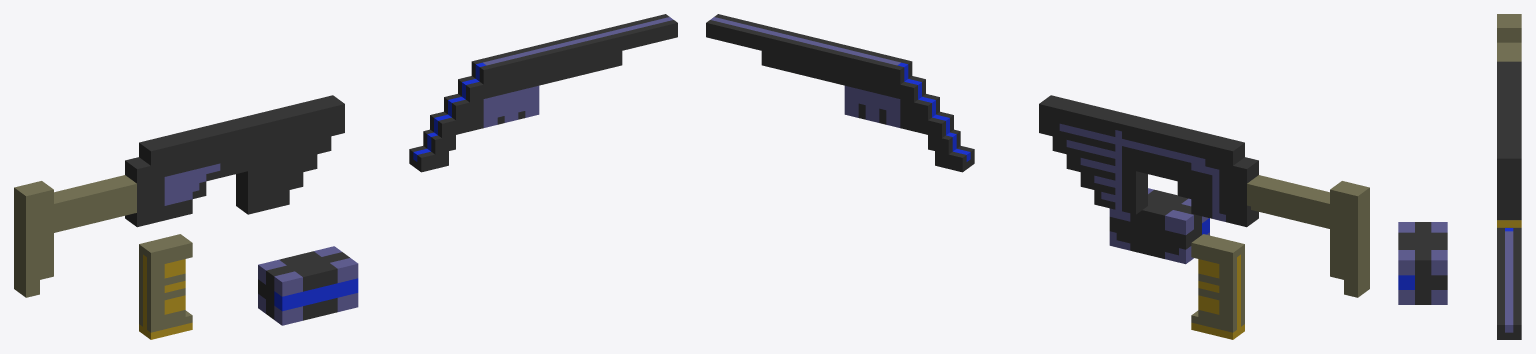
Rendered from automaticRifle-5.obj.
3 views of the same model, side by side, from view 1: azimuth 30°, elevation 25°; view 2: azimuth 150°, elevation 25°; view 3: azimuth 270°, elevation 25° (orthographic). The views are drawn at different scales.
Size of the model in its own units: 9.4 by 2.6 by 1.5.
Materials: 1 (1 with a texture image).
